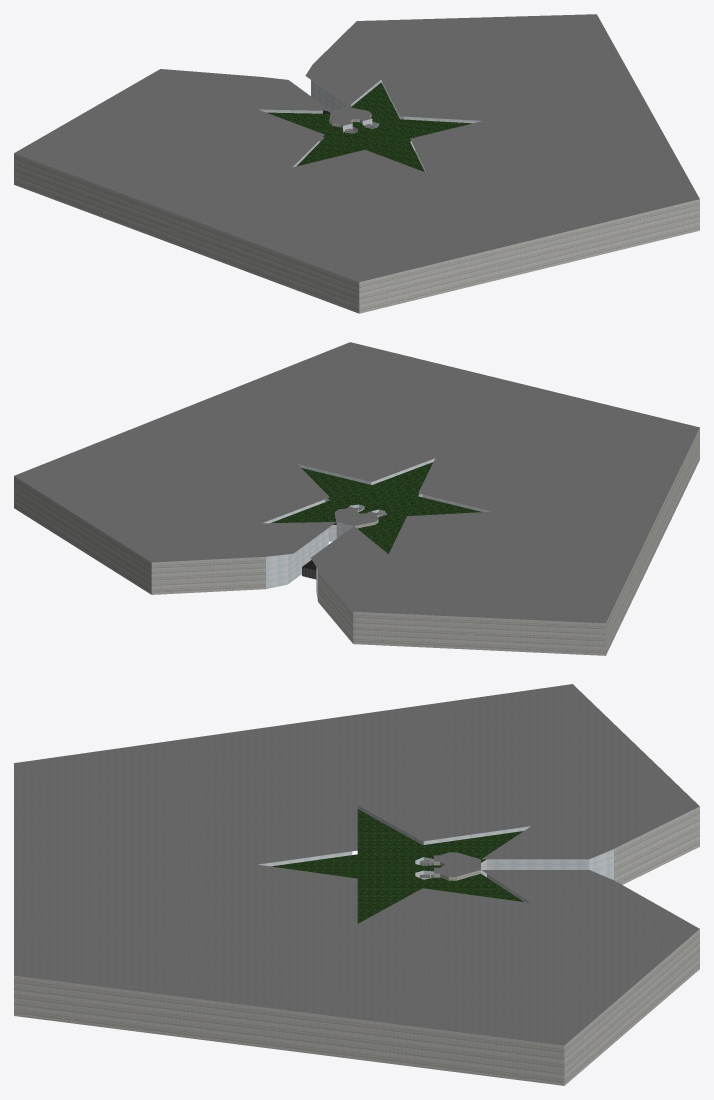
Rendered from Mapa 3 finalFD.fbx.
The picture shows the model from 3 angles, top to bottom: view 1: azimuth 30°, elevation 25°; view 2: azimuth 150°, elevation 25°; view 3: azimuth 270°, elevation 25°; orthographic projection. The views are drawn at different scales.
Parts seen in each view (by area): view 1: E1M8; view 2: E1M8; view 3: E1M8.
Part boxes in pixels (x1,y1,x2,y2): E1M8: (14, 14, 699, 313); E1M8: (14, 342, 699, 655); E1M8: (14, 684, 699, 1085).
Size of the model in its own units: 661600 by 34400 by 530400.
25 materials, 25 textured.
